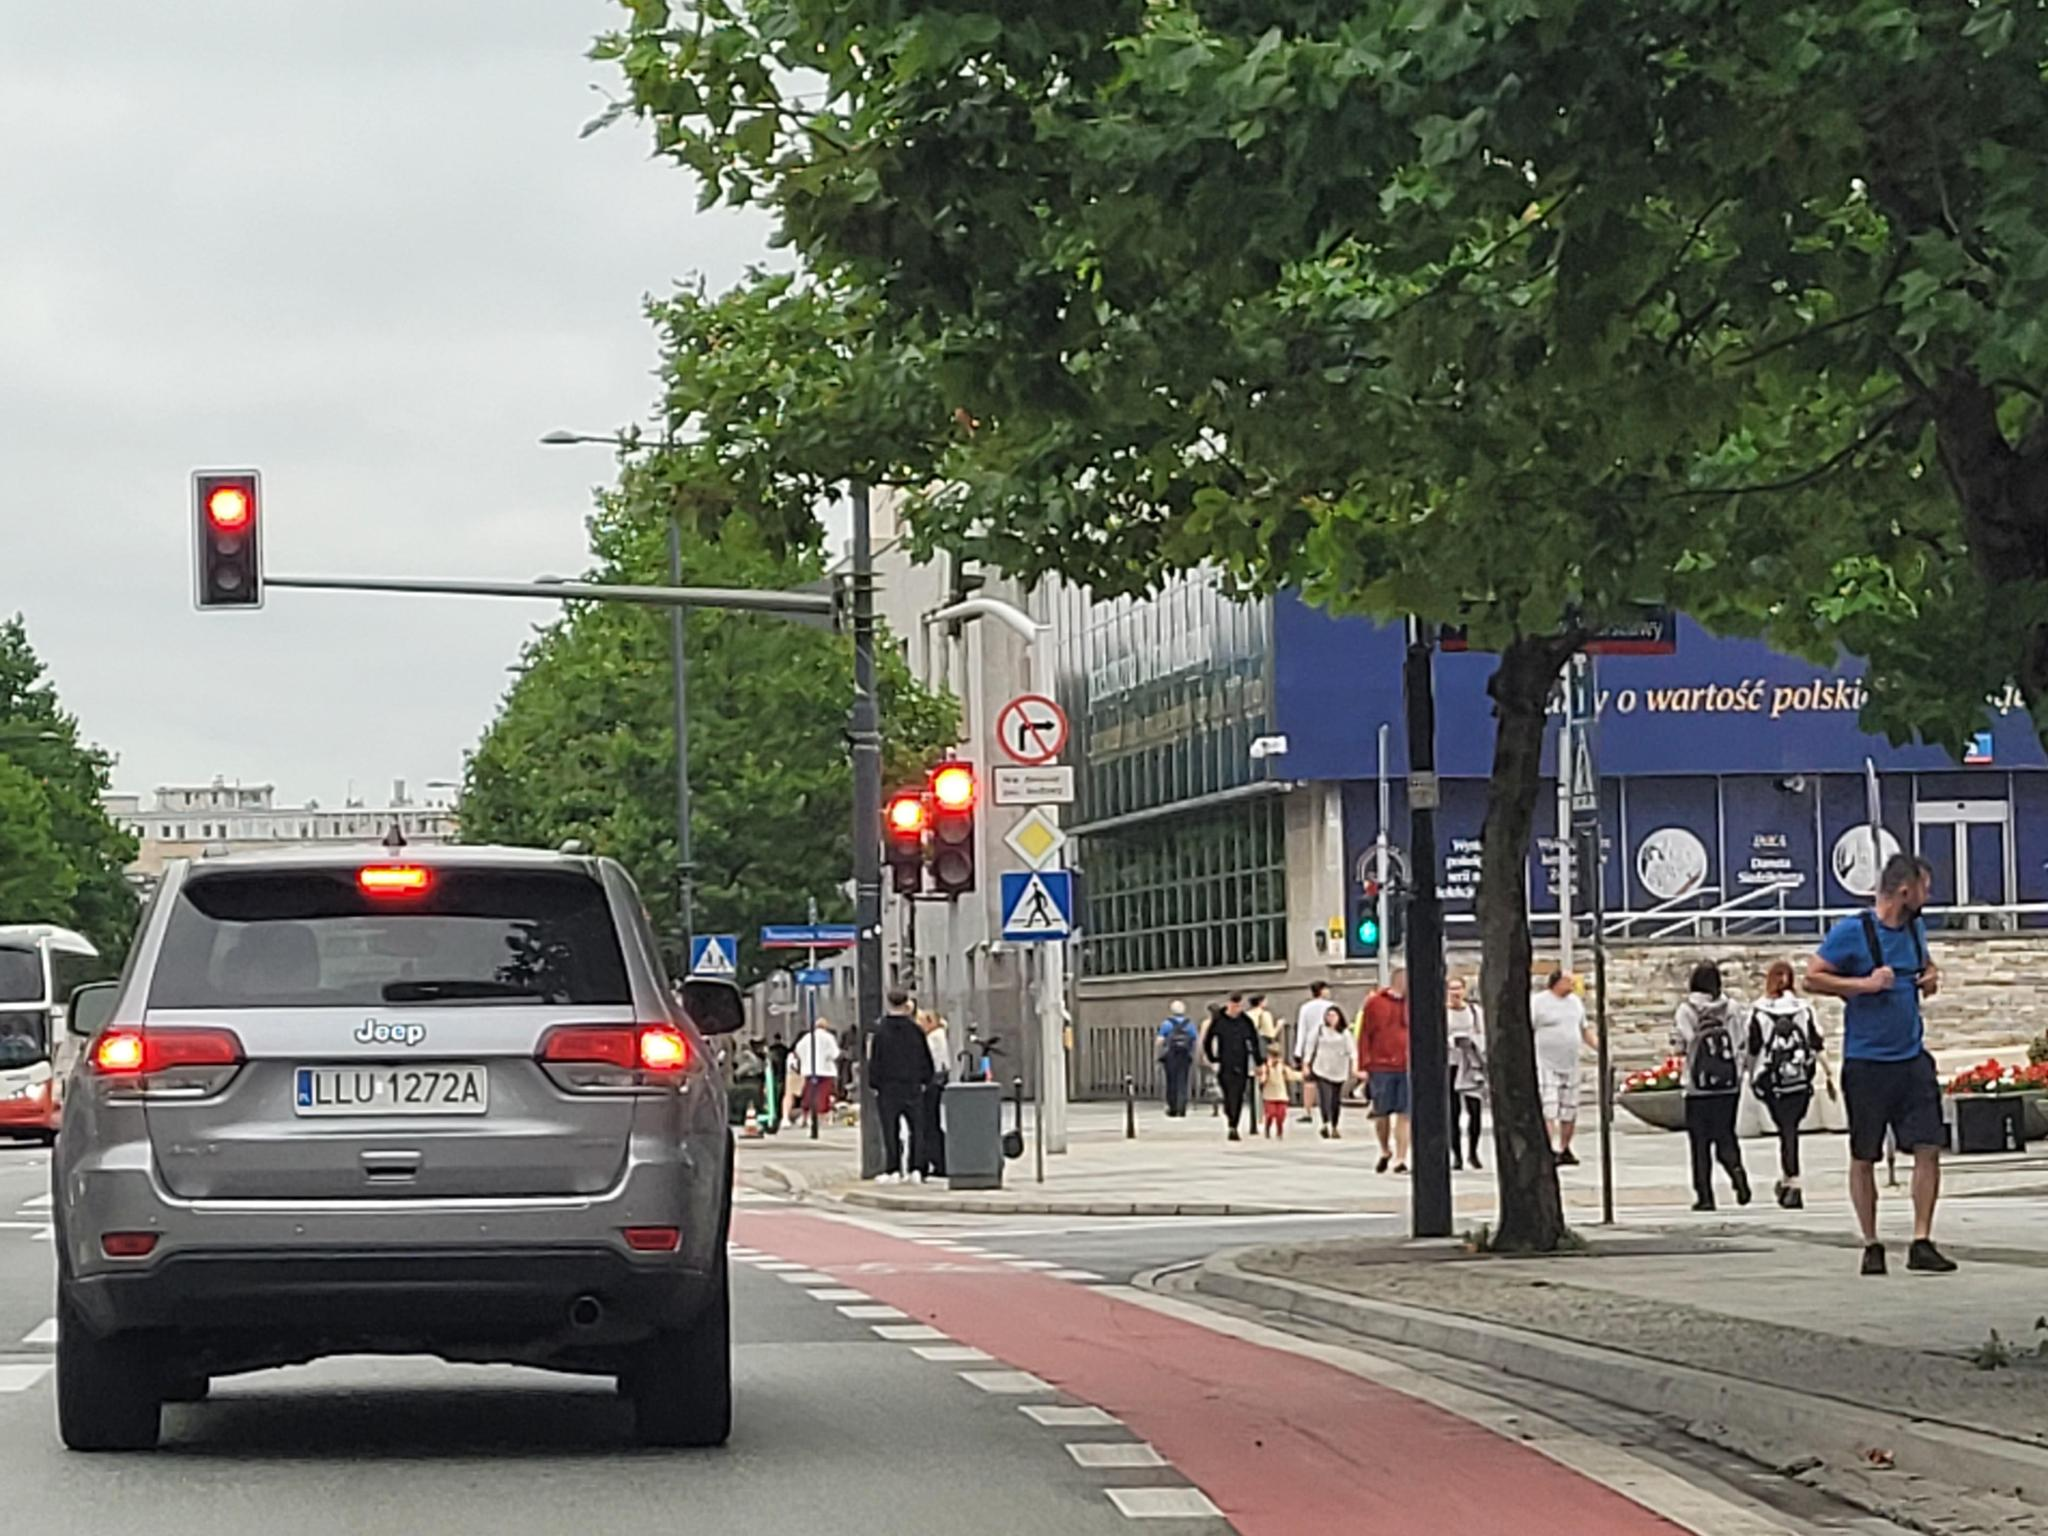information: (1001, 873, 1071, 939), (1001, 807, 1066, 871), (1571, 733, 1598, 816), (690, 936, 737, 975)
other: (993, 768, 1074, 802)
prohibitory: (997, 694, 1069, 765)
